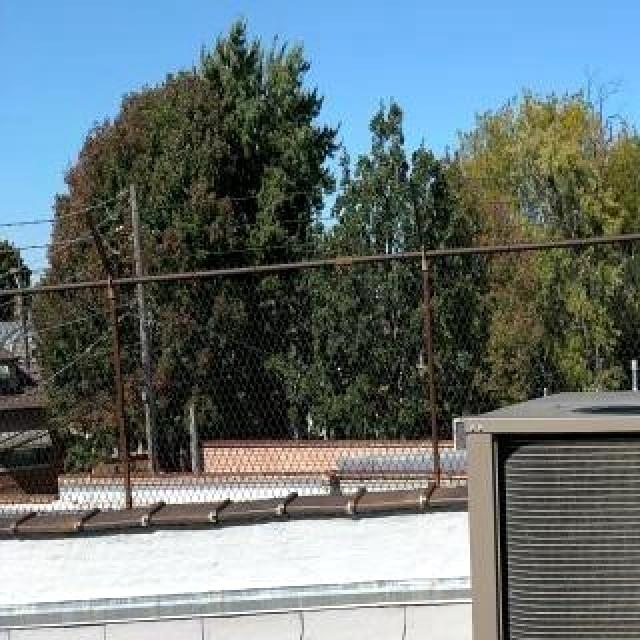RTU: (452, 372, 640, 640)
